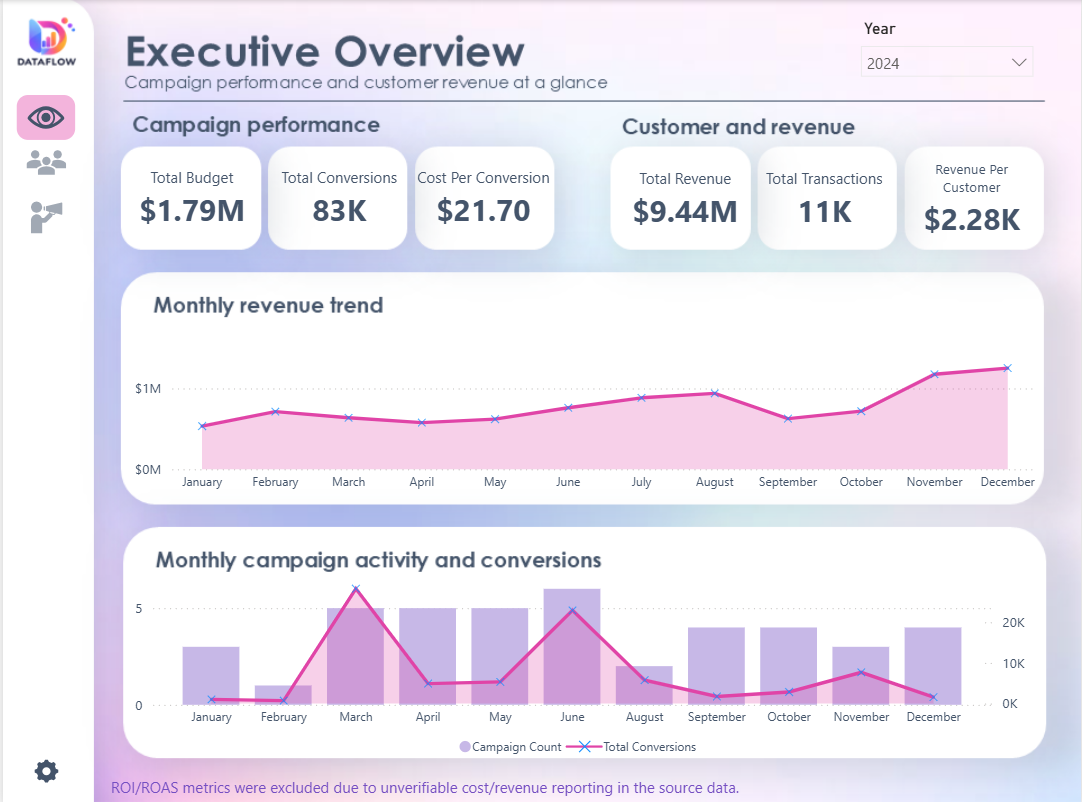

What the dashboard file says about the page in this screenshot:
{"tool":"powerbi","page":{"name":"Executive Overview","canvas":[960,720],"ordinal":0},"visuals":[{"type":"cardVisual","fields":{"Data":["_Measures.Total Budget"]},"box":[91.4,135.7,154.3,80],"z":0},{"type":"lineChart","fields":{"Category":["DimDate.MonthName"],"Y":["_Measures.Total Revenue"]},"box":[112.2,295.6,815.6,150],"z":4000},{"type":"lineStackedColumnComboChart","fields":{"Category":["DimDate.MonthName"],"Y":["_Measures.Campaign Count"],"Y2":["_Measures.Total Conversions"]},"box":[112.9,505.7,802.9,177.1],"z":5000},{"type":"cardVisual","fields":{"Data":["_Measures.Total Conversions"]},"box":[230,135.7,138.9,80],"z":6000},{"type":"cardVisual","fields":{"Data":["_Measures.Cost Per Conversion"]},"box":[347.1,135.7,161.4,80],"z":7000},{"type":"image","box":[12.2,84.3,52.2,40],"z":8000},{"type":"cardVisual","fields":{"Data":["_Measures.Total Revenue"]},"box":[530.7,136.5,153.8,80.1],"z":9000},{"type":"cardVisual","fields":{"Data":["_Measures.Total Transactions"]},"box":[662.7,136.4,138.9,80],"z":10000},{"type":"cardVisual","fields":{"Data":["_Measures.Revenue Per Customer"]},"box":[793.8,136.4,138.9,80],"z":11000},{"type":"image","box":[12.2,124.3,52.2,40],"z":12000},{"type":"image","box":[12,173.5,52.2,40],"z":13000},{"type":"image","box":[16.7,672.2,44.4,28.9],"z":14000},{"type":"slicer","fields":{"Values":["DimDate.Year"]},"box":[753.8,12.5,173.8,71.2],"z":15000},{"type":"textbox","box":[91.4,687.1,702.9,28.6],"z":16000}]}

Visuals, with their boxes in screenshot pixels (x1, y1, x2, y2), scaled from the page's 960x720 canvas onto the 1082x802 screenshot:
cardVisual - _Measures.Total Budget: l=103, t=151, r=277, b=240
lineChart - DimDate.MonthName x _Measures.Total Revenue: l=126, t=329, r=1046, b=496
lineStackedColumnComboChart - DimDate.MonthName x _Measures.Campaign Count: l=127, t=563, r=1032, b=761
cardVisual - _Measures.Total Conversions: l=259, t=151, r=416, b=240
cardVisual - _Measures.Cost Per Conversion: l=391, t=151, r=573, b=240
image: l=14, t=94, r=73, b=138
cardVisual - _Measures.Total Revenue: l=598, t=152, r=771, b=241
cardVisual - _Measures.Total Transactions: l=747, t=152, r=903, b=241
cardVisual - _Measures.Revenue Per Customer: l=895, t=152, r=1051, b=241
image: l=14, t=138, r=73, b=183
image: l=14, t=193, r=72, b=238
image: l=19, t=749, r=69, b=781
slicer - DimDate.Year: l=850, t=14, r=1045, b=93
textbox: l=103, t=765, r=895, b=797
